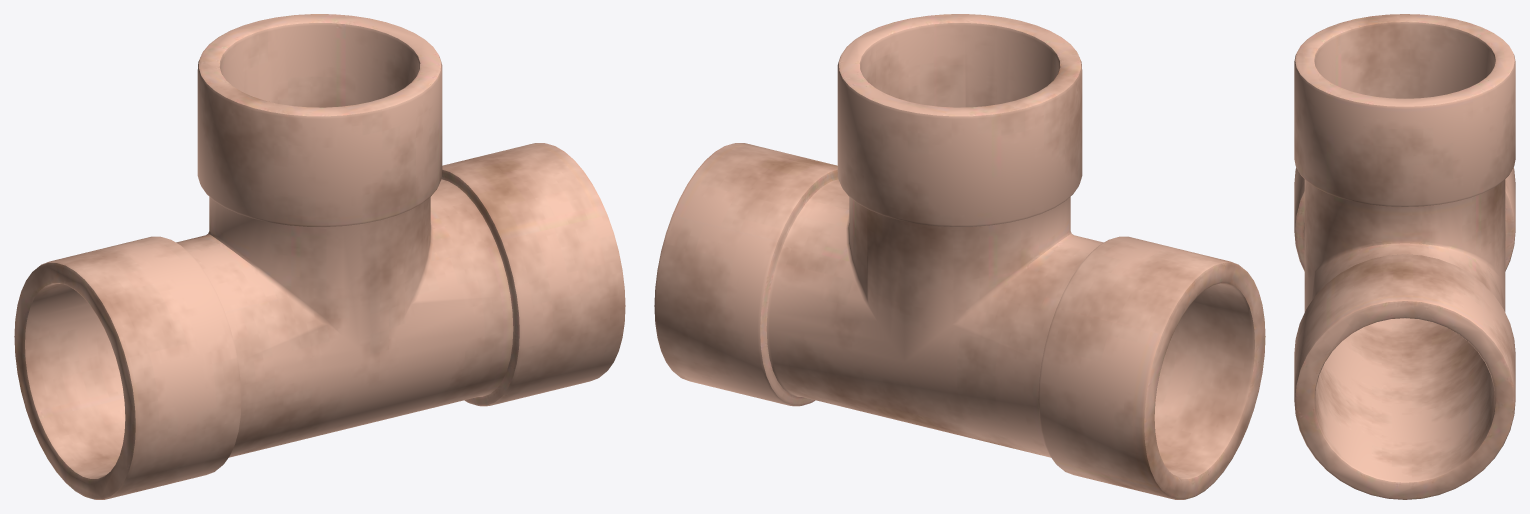
File: raccord-cuivre.glb
3 views of the same model, side by side, from view 1: azimuth 30°, elevation 25°; view 2: azimuth 150°, elevation 25°; view 3: azimuth 270°, elevation 25° (orthographic). The views are drawn at different scales.
Visible parts, largest first — view 1: RaccordT; view 2: RaccordT; view 3: RaccordT.
Part boxes in pixels (x1,y1,x2,y2): RaccordT: [14, 14, 625, 499]; RaccordT: [654, 14, 1265, 499]; RaccordT: [1294, 14, 1515, 499].
Bounding box in the file's own units: 0.064 × 0.0458 × 0.0276.
1 material, 1 textured.
